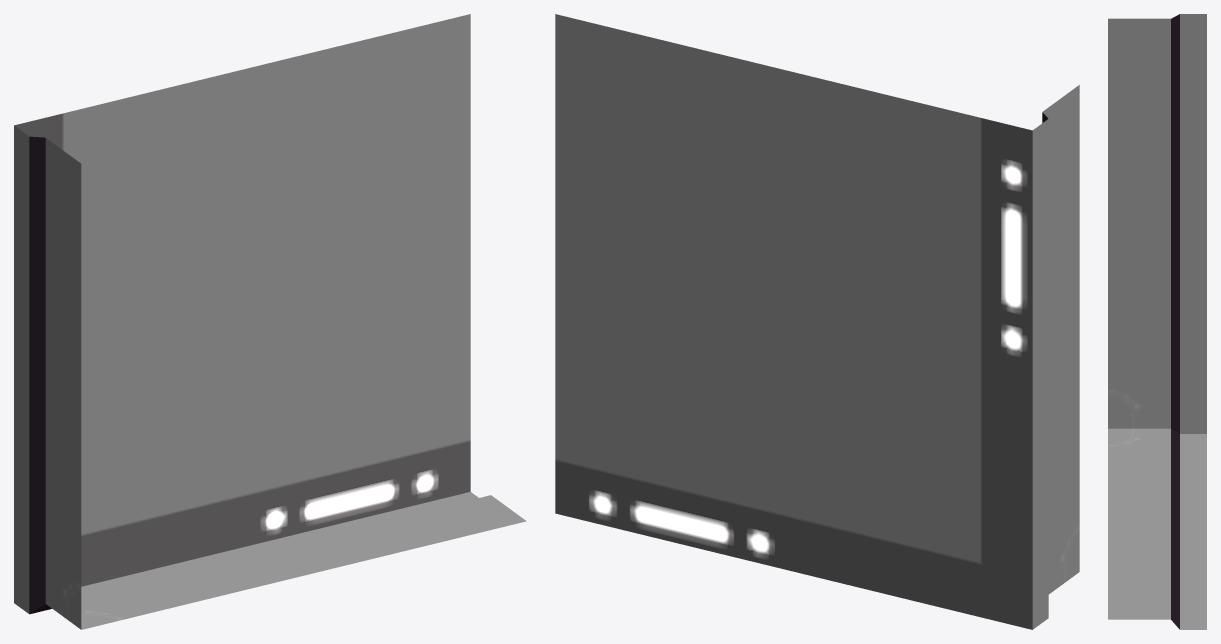
The model's file is SM_CornerSideWalk.fbx.
3 views of the same model, side by side, from view 1: azimuth 30°, elevation 25°; view 2: azimuth 150°, elevation 25°; view 3: azimuth 270°, elevation 25° (orthographic). The views are drawn at different scales.
Visible parts, largest first — view 1: SM_CornerSideWalk; view 2: SM_CornerSideWalk; view 3: SM_CornerSideWalk.
Part boxes in pixels (x1,y1,x2,y2): SM_CornerSideWalk: (14,14,526,629); SM_CornerSideWalk: (555,14,1079,629); SM_CornerSideWalk: (1108,14,1206,629).
Size of the model in its own units: 556 by 556 by 119.
